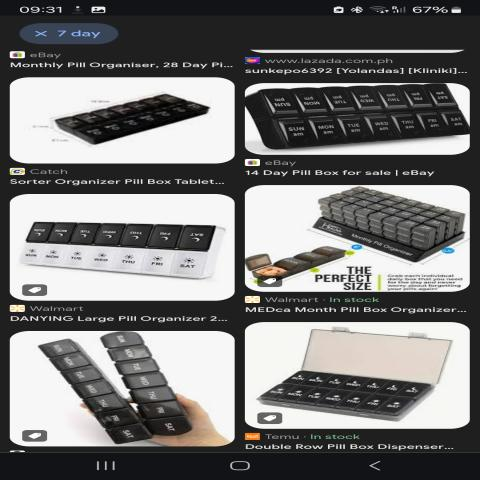PillBox: (22, 334, 216, 438), (20, 204, 215, 286), (249, 84, 464, 151), (31, 82, 224, 150), (254, 366, 456, 417)
